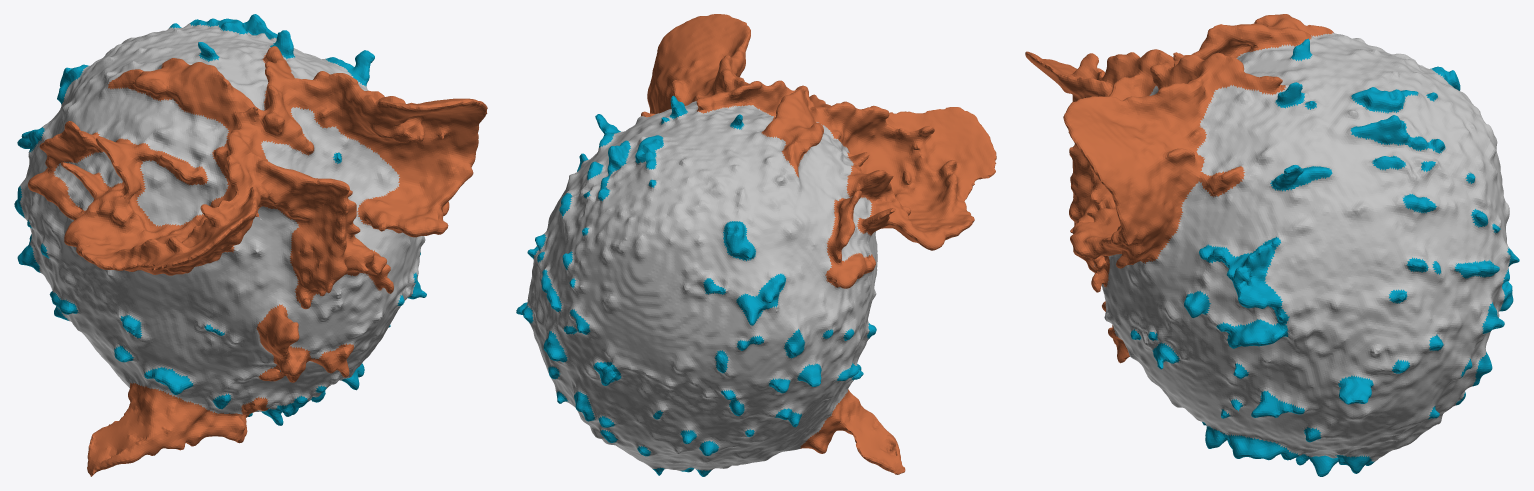
3 renders of one model, left to right at view 1: azimuth 30°, elevation 25°; view 2: azimuth 150°, elevation 25°; view 3: azimuth 270°, elevation 25°, orthographic. The views are drawn at different scales.
Bounding box in the file's own units: 168 × 159 × 173.
